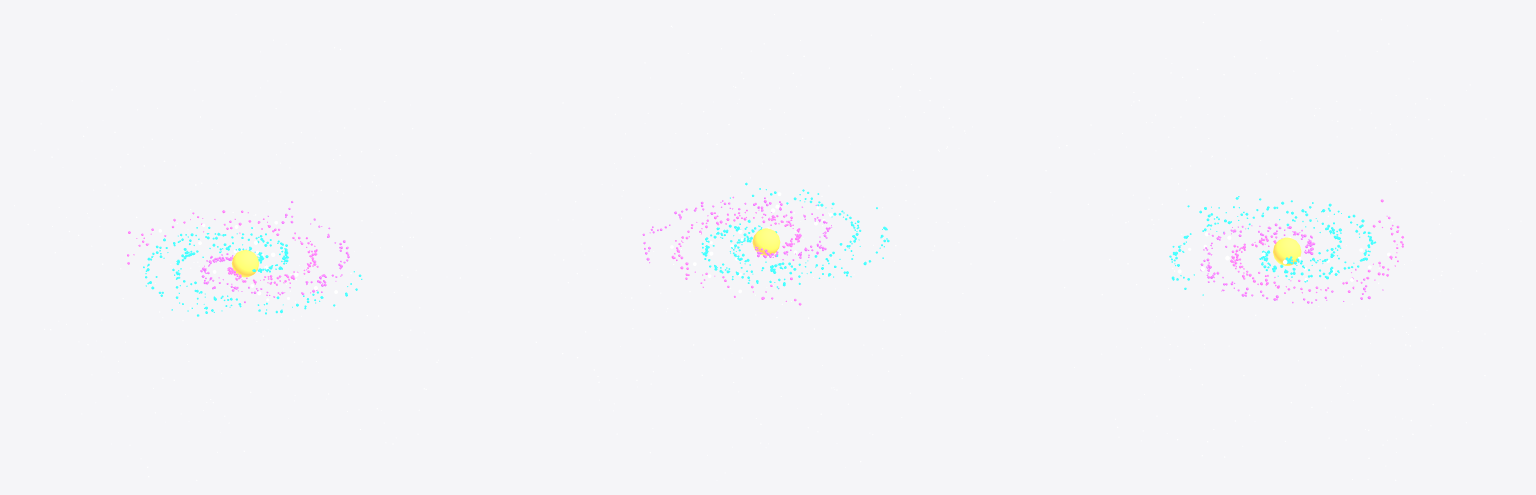
The model's file is Galaxy.glb.
3 renders of one model, left to right at view 1: azimuth 30°, elevation 25°; view 2: azimuth 150°, elevation 25°; view 3: azimuth 270°, elevation 25°, orthographic. The views are drawn at different scales.
Visible parts, largest first — view 1: Galaxy_Spiral_Stars, Galaxy_Core; view 2: Galaxy_Spiral_Stars, Galaxy_Core; view 3: Galaxy_Spiral_Stars, Galaxy_Core, Background_Stars.
Part boxes in pixels (x1=…): Galaxy_Spiral_Stars: x1=127, y1=201, x2=362, y2=316; Galaxy_Core: x1=231, y1=250, x2=259, y2=277; Galaxy_Spiral_Stars: x1=642, y1=182, x2=889, y2=305; Galaxy_Core: x1=752, y1=228, x2=780, y2=256; Galaxy_Spiral_Stars: x1=1169, y1=196, x2=1404, y2=303; Galaxy_Core: x1=1273, y1=237, x2=1301, y2=265; Background_Stars: x1=1045, y1=14, x2=1521, y2=480.
Size of the model in its own units: 22 by 21.17 by 21.69.
